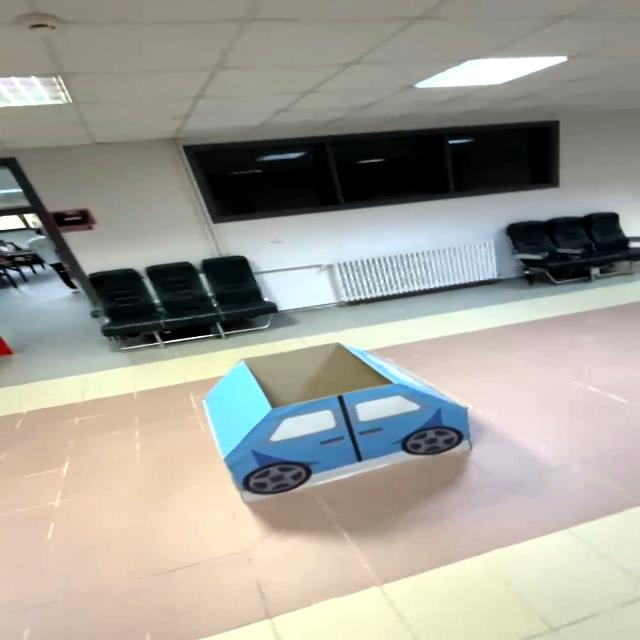blue_car: (187, 332, 494, 517)
